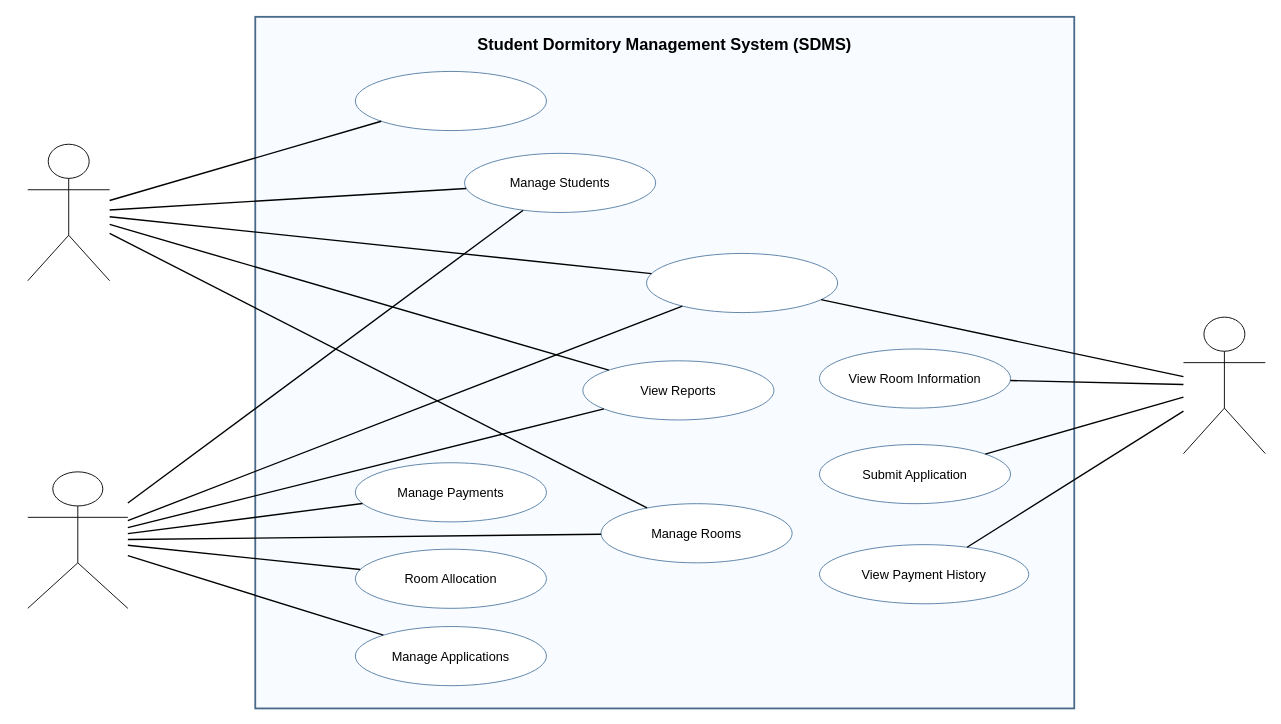
Some shapes in this 1281 by 724 pixel diagram are drawn without their labels. Each missing label, with the box of its shape:
Administrator: (27, 143, 110, 281)
Dormitory Manager: (27, 471, 128, 608)
Login / Register: (646, 253, 838, 313)
Manage Users: (354, 71, 546, 131)
Student: (1183, 316, 1265, 454)
